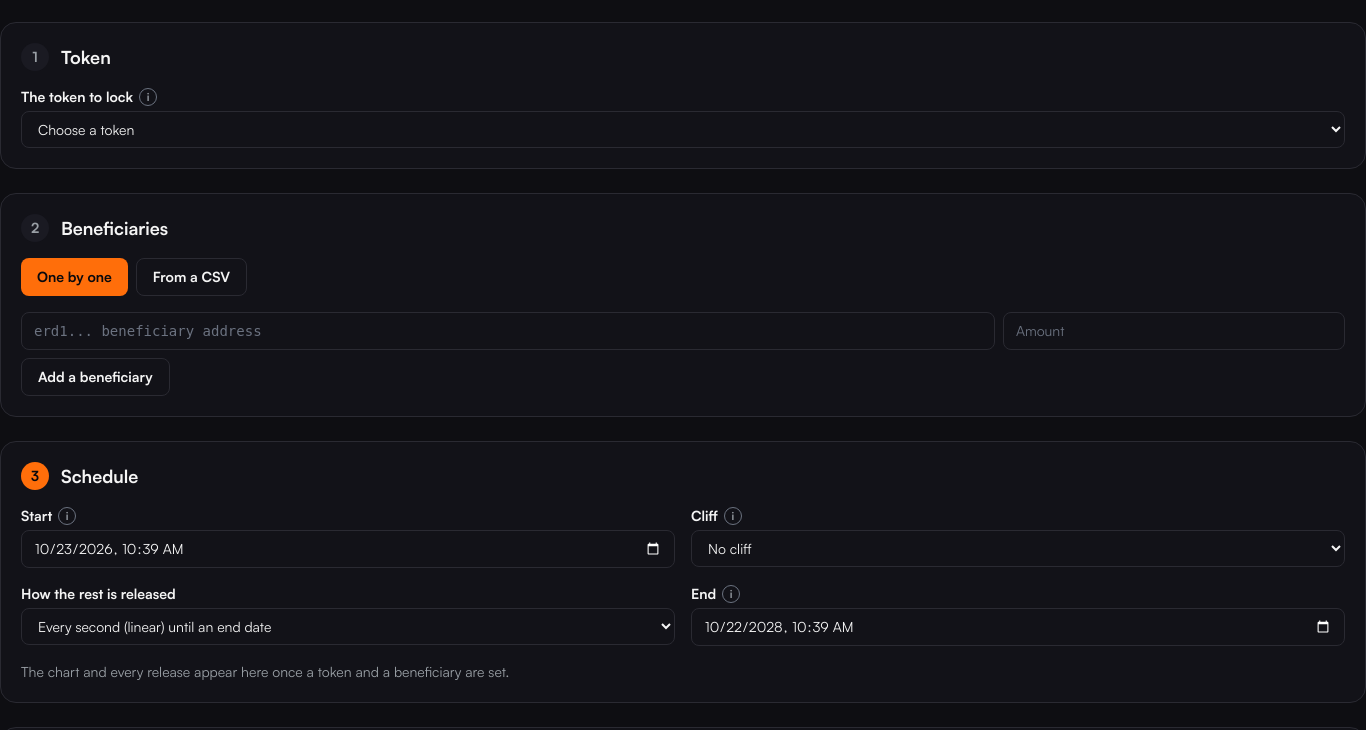
Scenario: review3: a panel that already sent, mounted again › a disconnect and reconnect of the same account does not offer the sent vesting again
Select "TFOX (TFOX-d61b09): 1,000,000,000,000" in the dropdown showing "Choose a token" below "The token to lock" at (683, 130), box [21,111,1345,148]
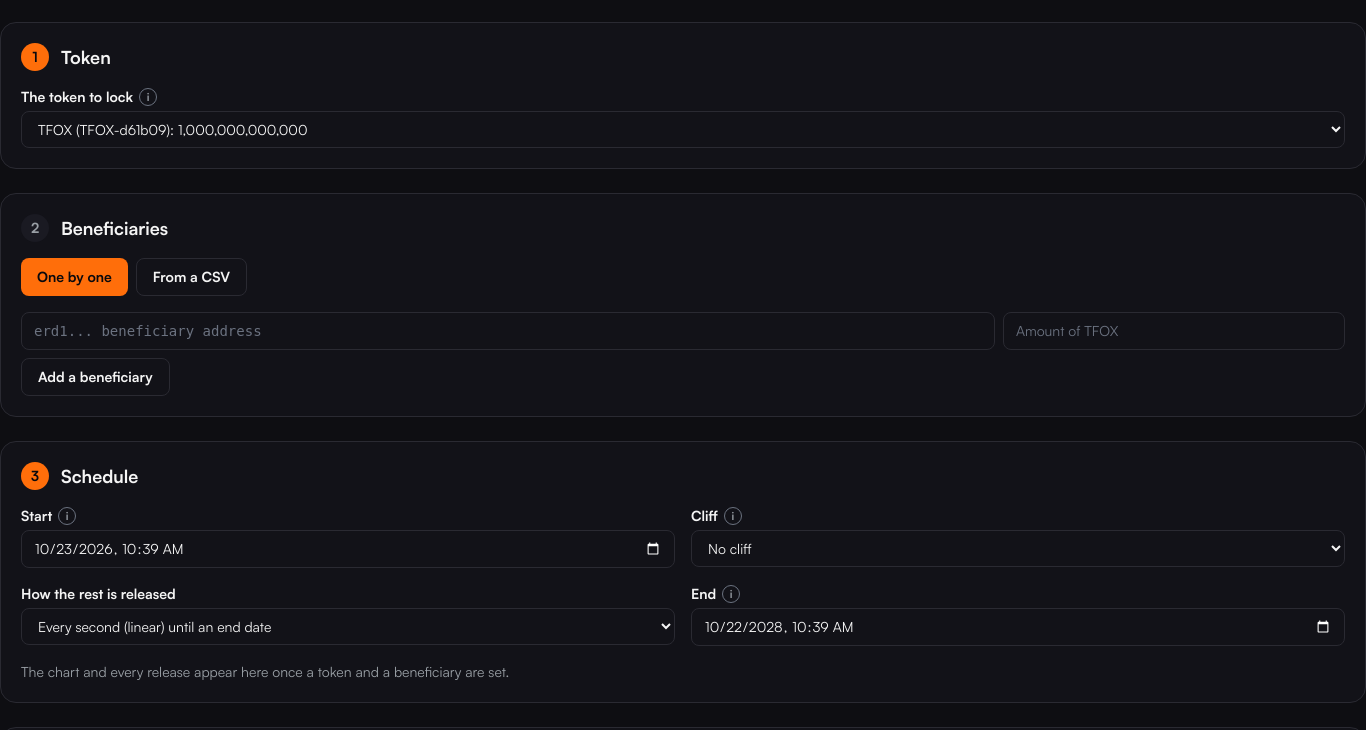
Type "erd14e7zqk5qz47fu7z75rmvzrzt5cvmffe9n7s73679xt6khu09erksehgl4u" into the field with placeholder "erd1... beneficiary address" at (508, 331), box [21,312,995,350]
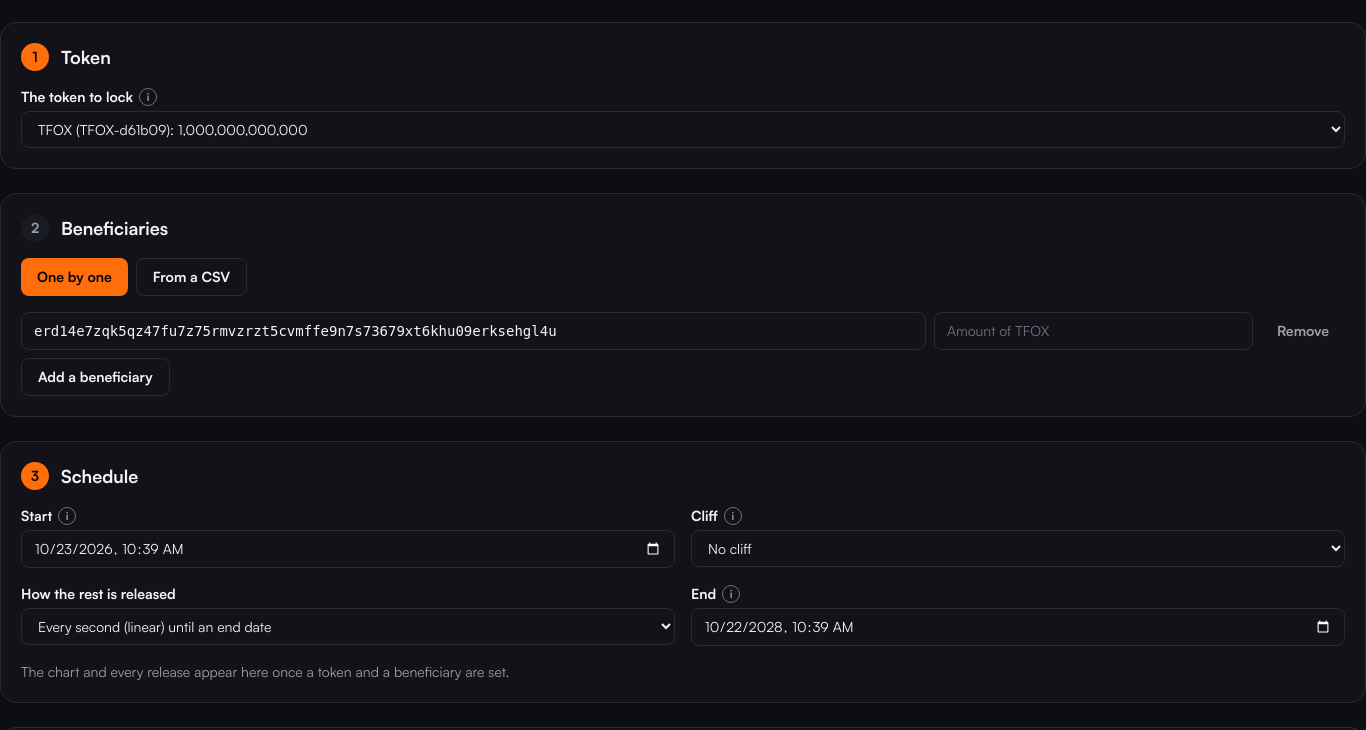
Type "1000" into the field with placeholder "Amount of TFOX" at (1094, 331), box [934,312,1253,350]
(page scrolled)
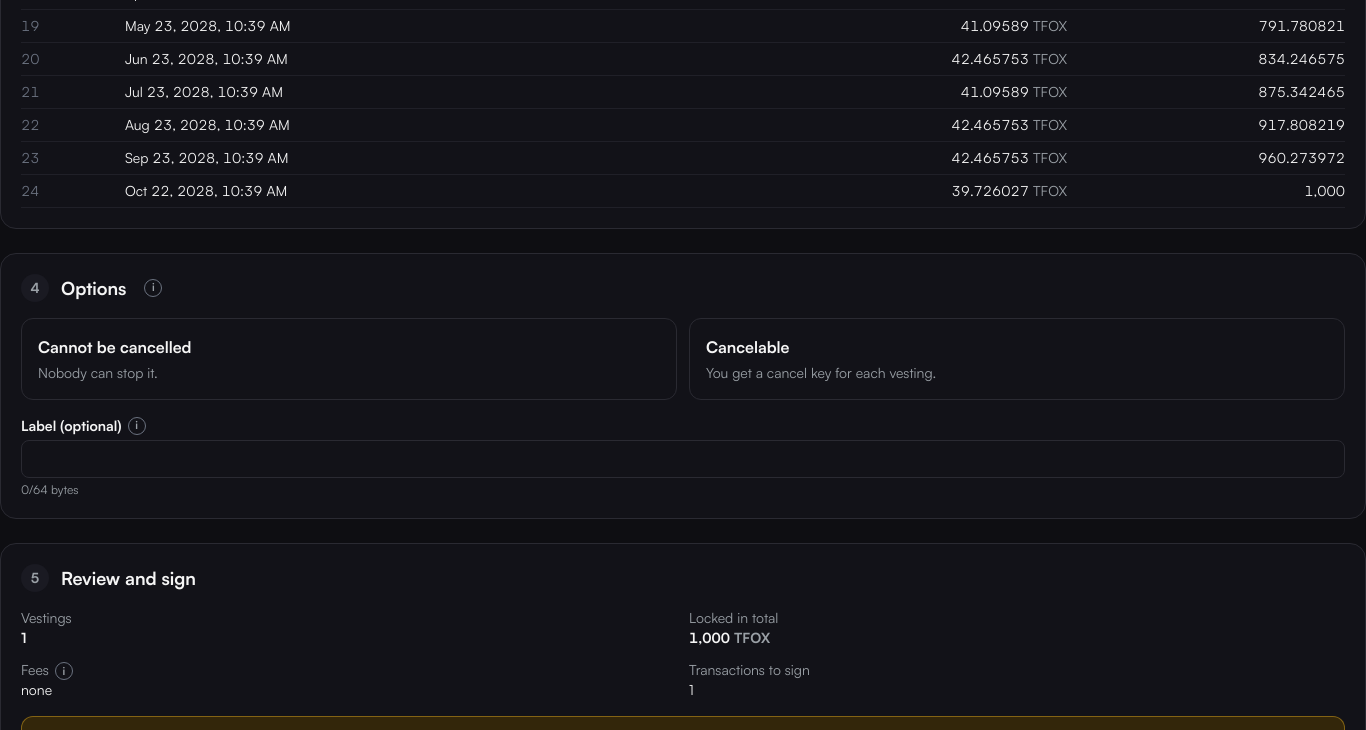
Click the text "Cannot be cancelled" at (115, 347), box [38,337,192,357]
(page scrolled)
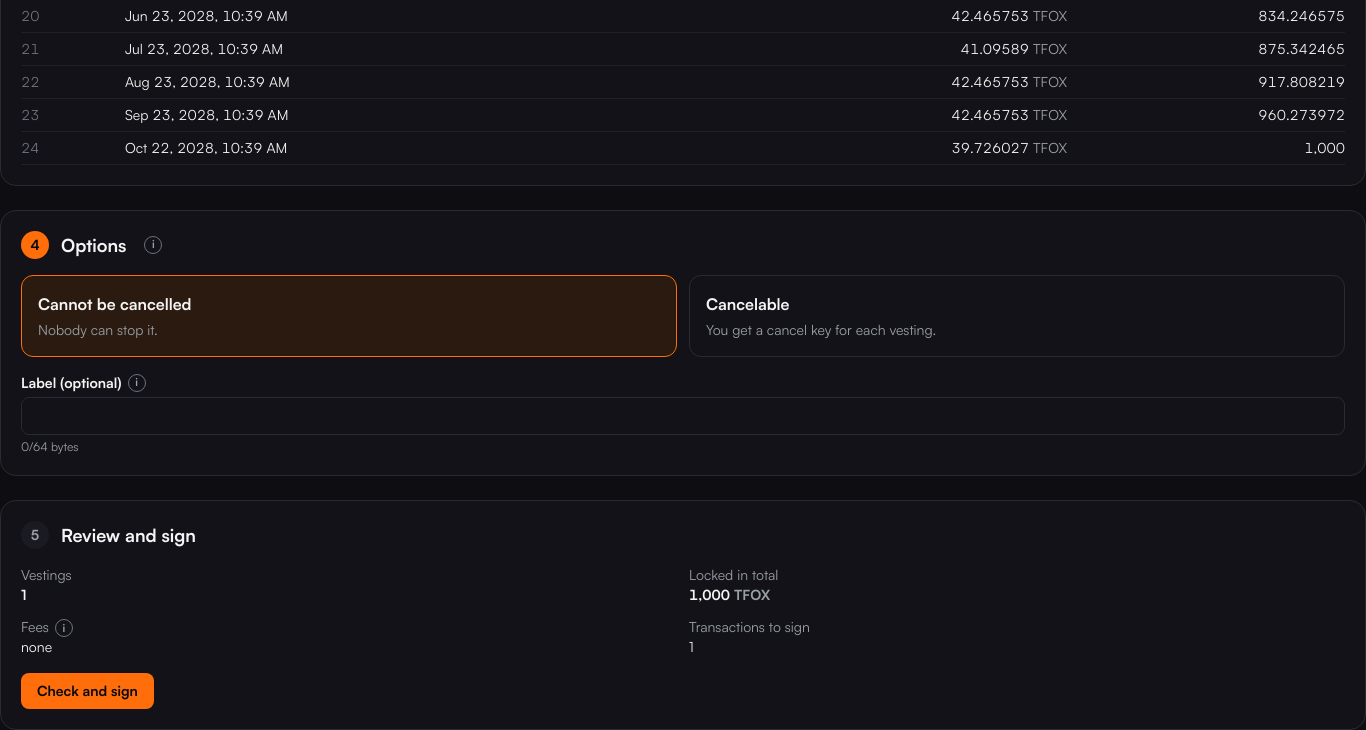
Click the button "Check and sign" at (87, 691), box [21,673,154,709]
(page scrolled)
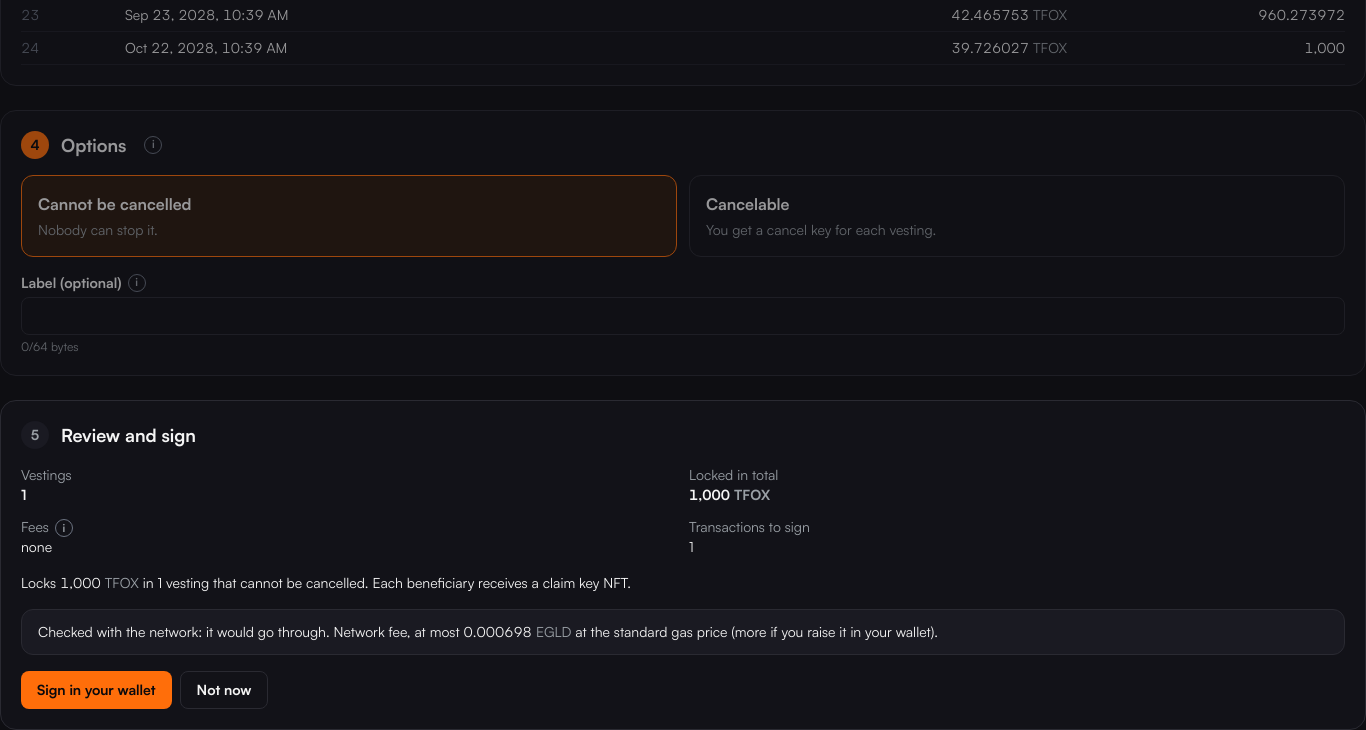
Click the button "Sign in your wallet" at (96, 690), box [21,671,172,709]
(page scrolled)
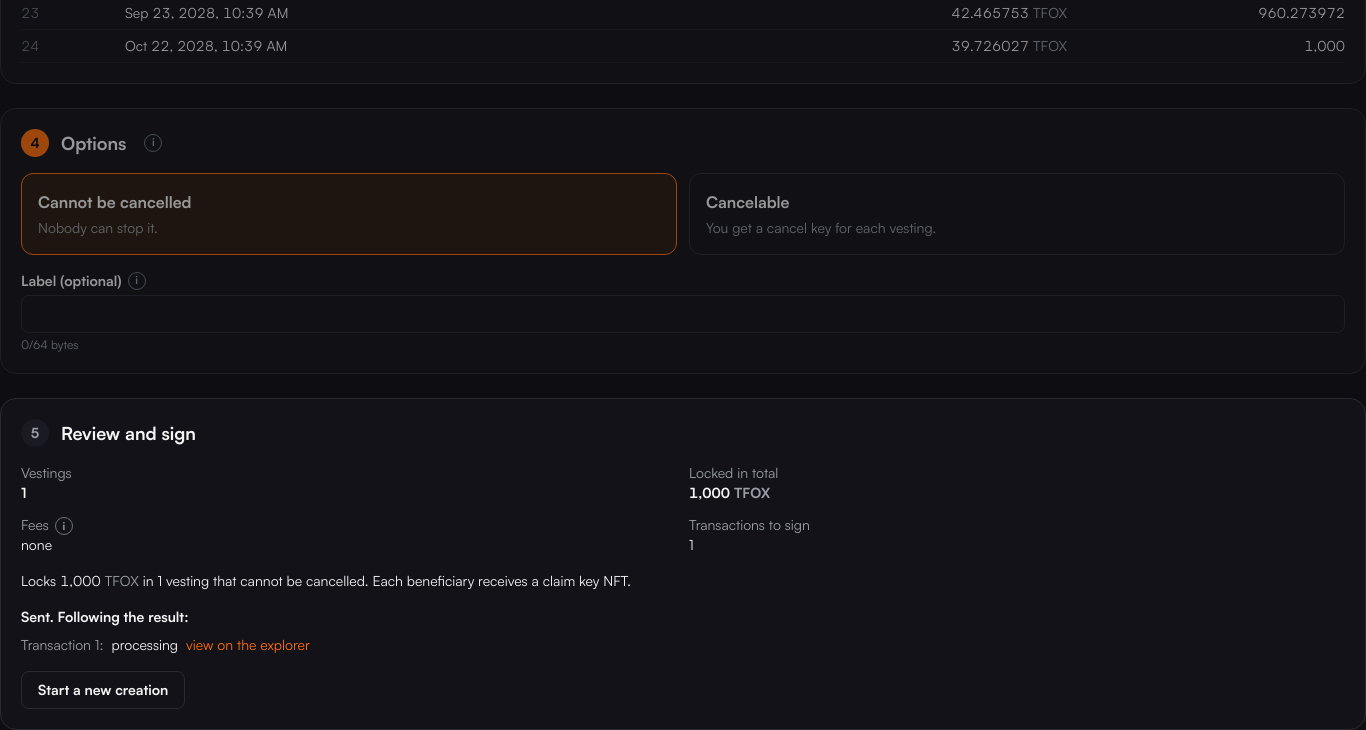
expect the text "Sent. Following the result:" is shown: met, box [21,608,188,625]
